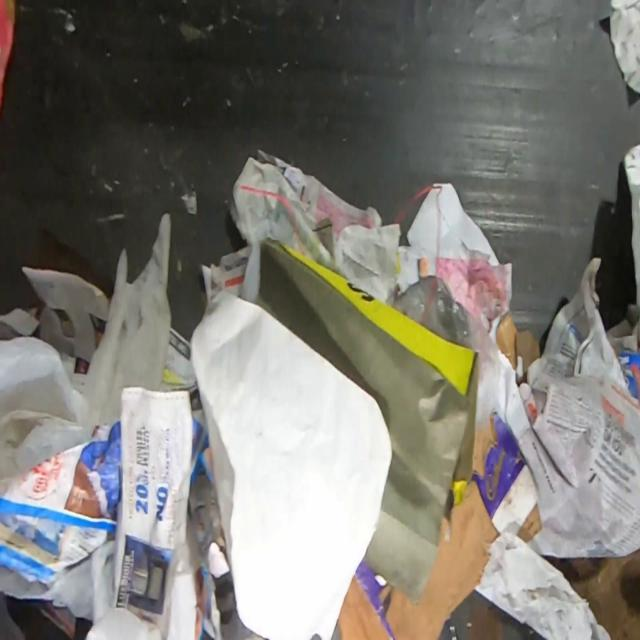cardboard: (335, 406, 543, 640), (541, 547, 640, 639), (496, 311, 542, 375), (0, 0, 16, 112)
soft_plastic: (73, 212, 172, 438), (0, 335, 93, 480), (385, 275, 480, 350), (46, 536, 116, 627)
